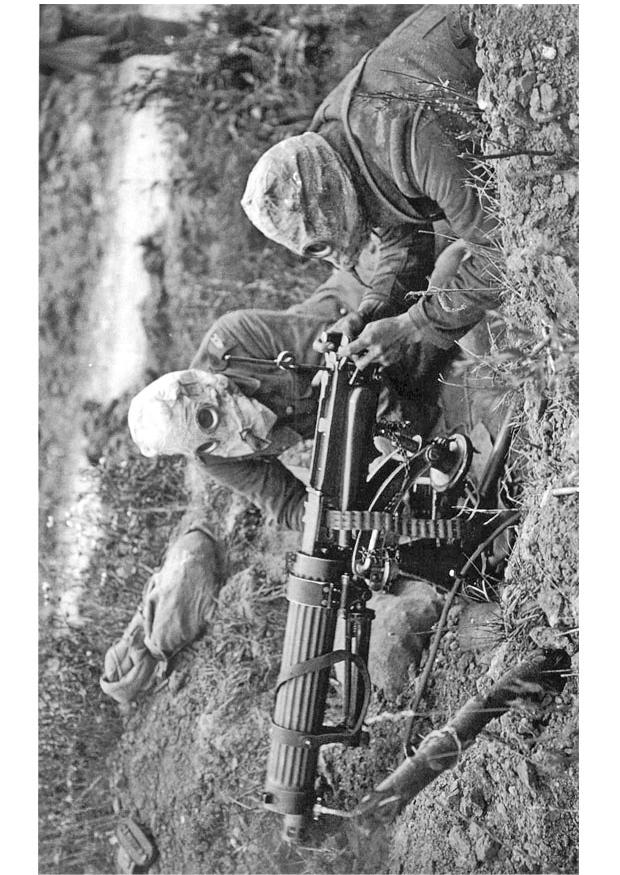rifle: (258, 426, 390, 838)
rifle in hand: (259, 308, 463, 842)
